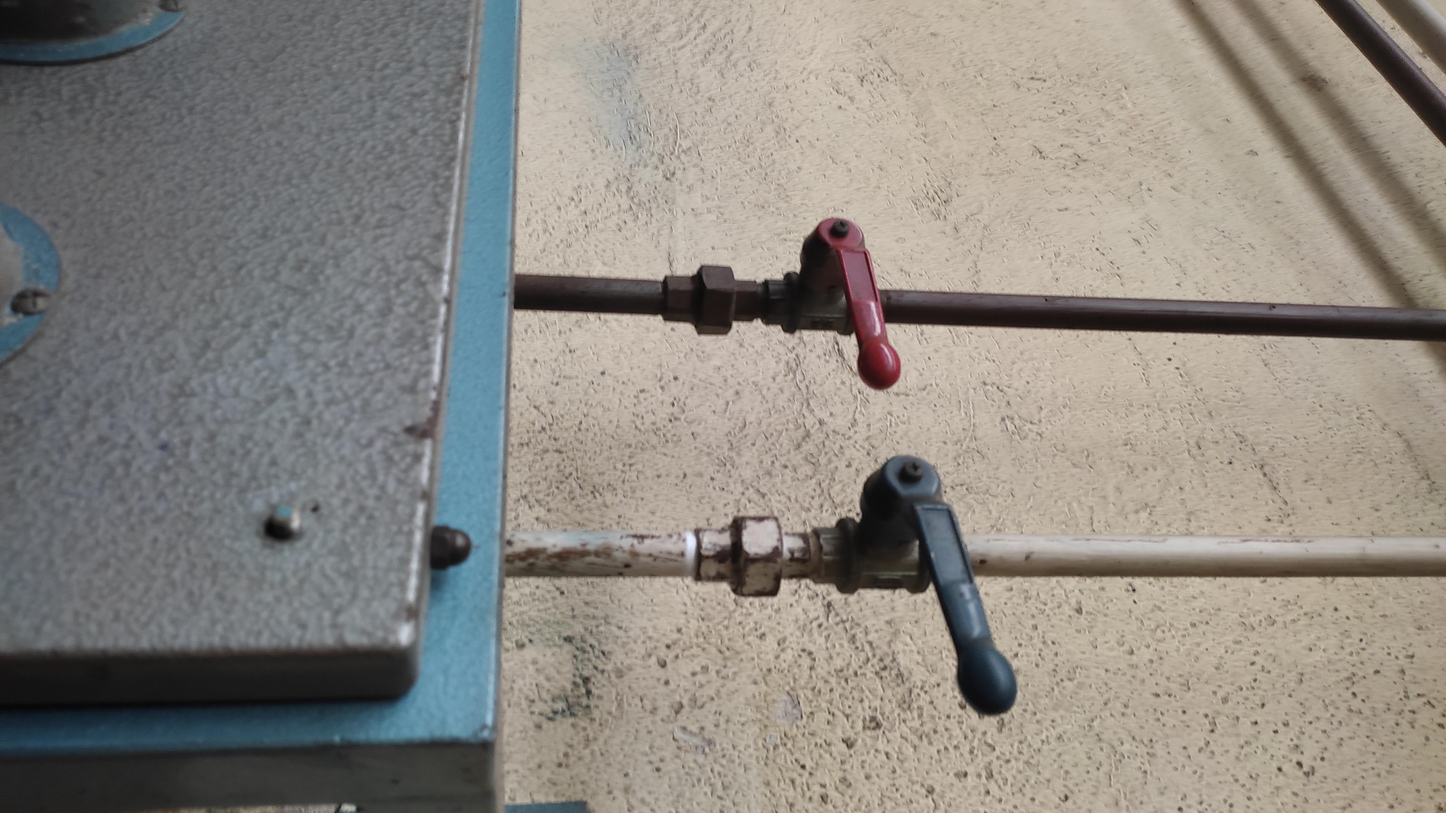closed valve: (840, 450, 1020, 717), (782, 210, 906, 392)
